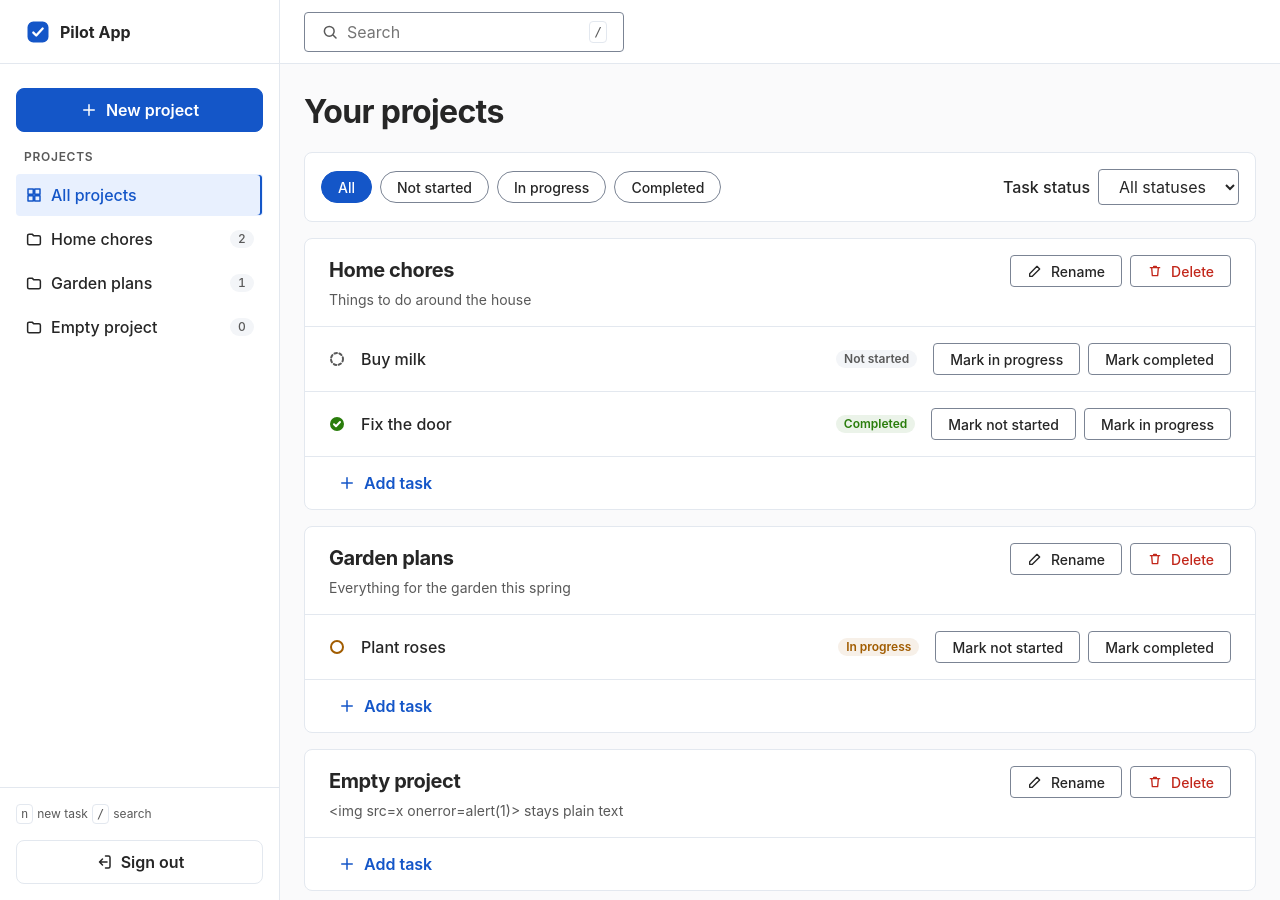
Test: Dashboard › renaming a project shows the new name
Click the button with aria-label "Rename Home chores" at (1066, 271), box [1010,255,1122,287]
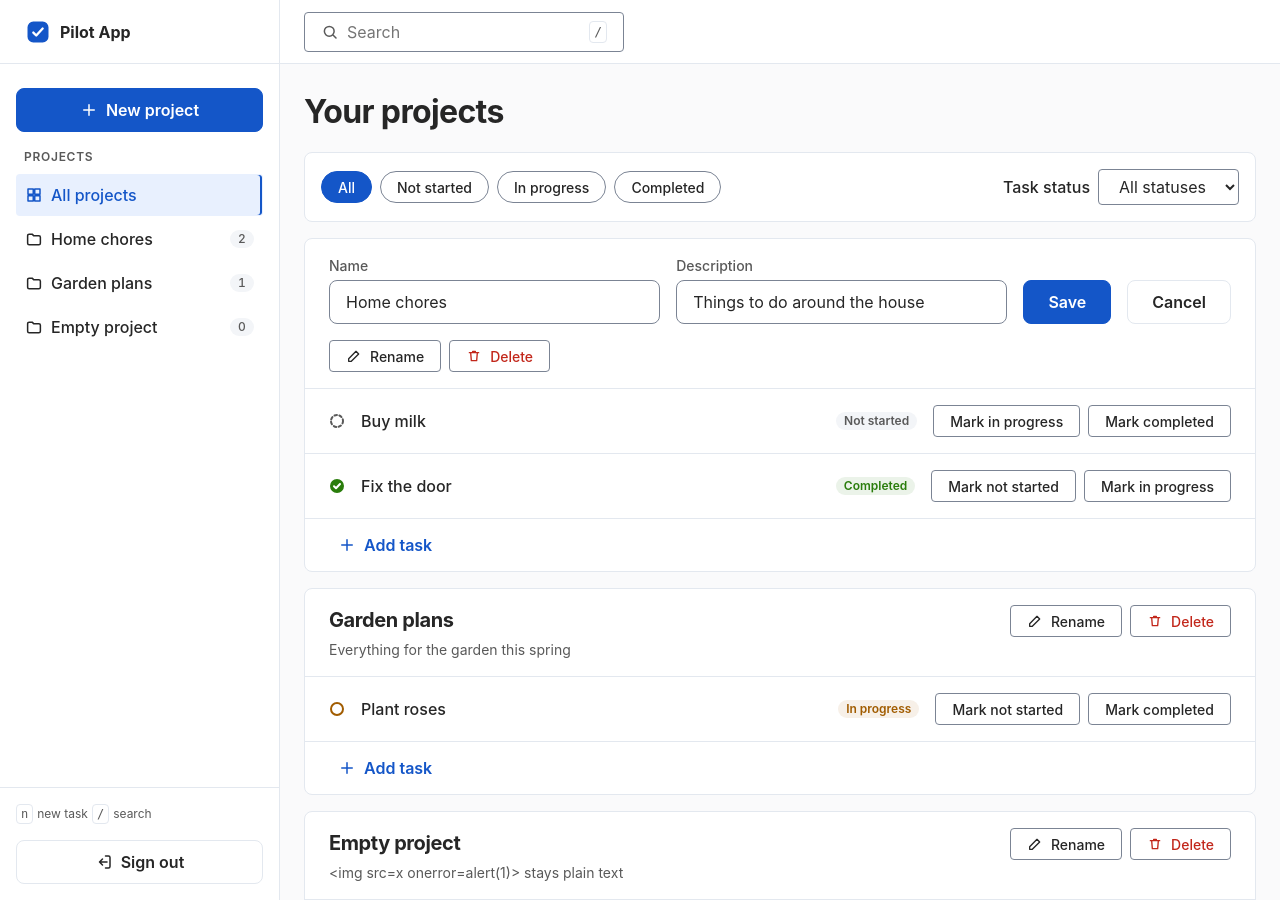
Replace the text in the field labelled "Name" with "House chores" at (495, 302), box [329,280,660,324]
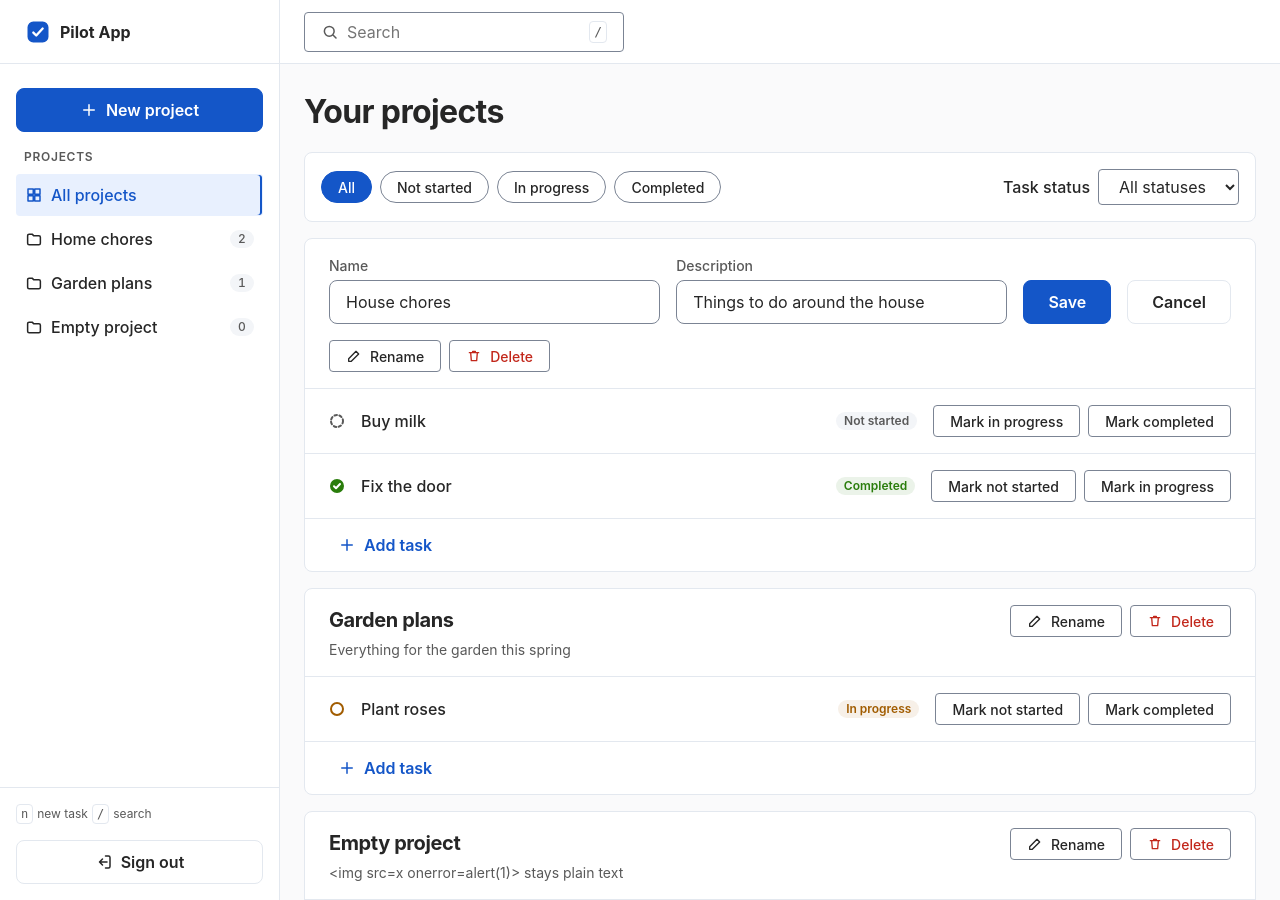
Click the button "Save" at (1067, 302), box [1023,280,1111,324]
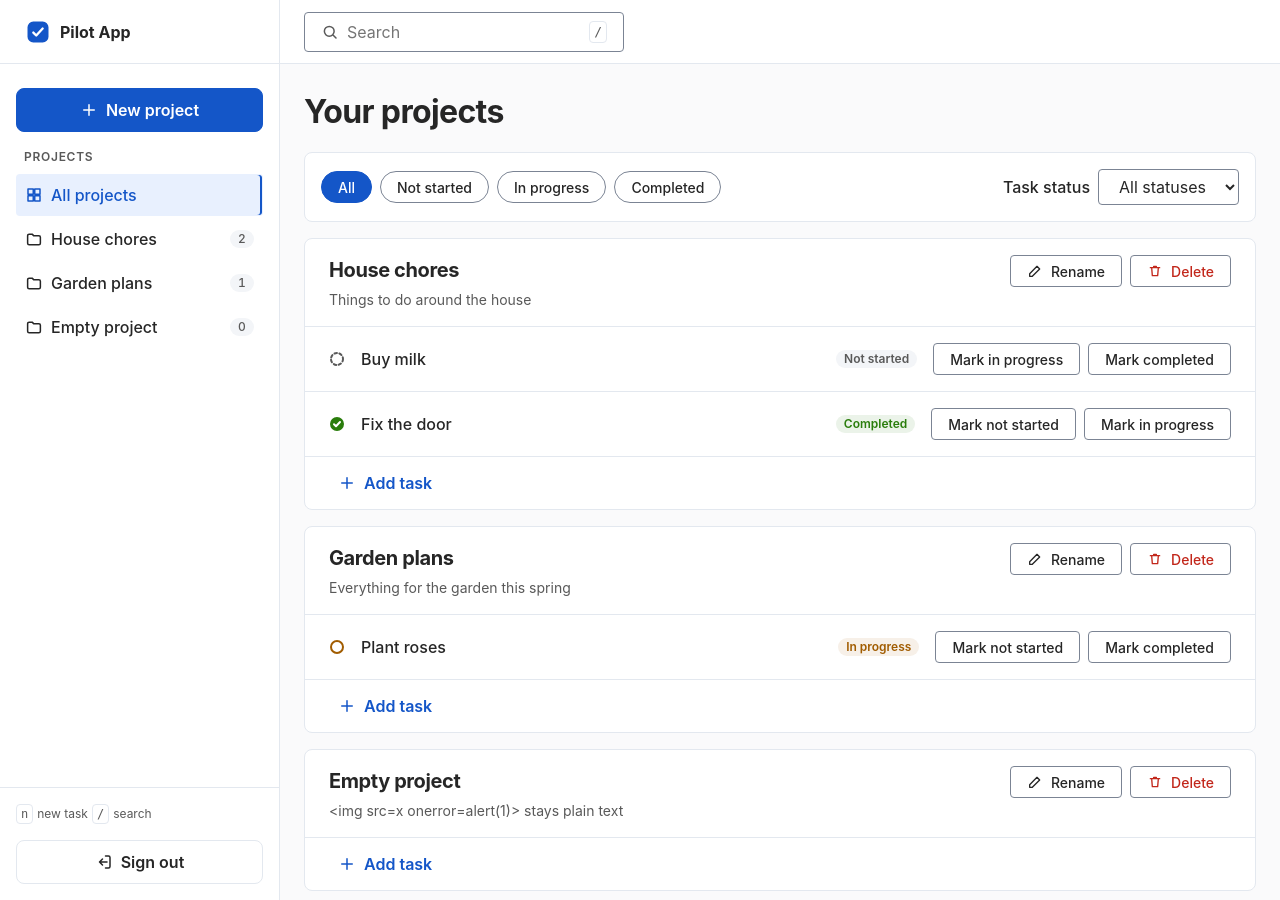
Result: the heading "House chores" is shown at [329,258,459,282]
Result: the button "Home chores" is gone
